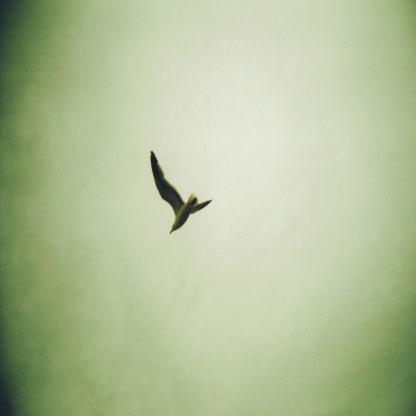bird: (150, 150, 212, 234)
